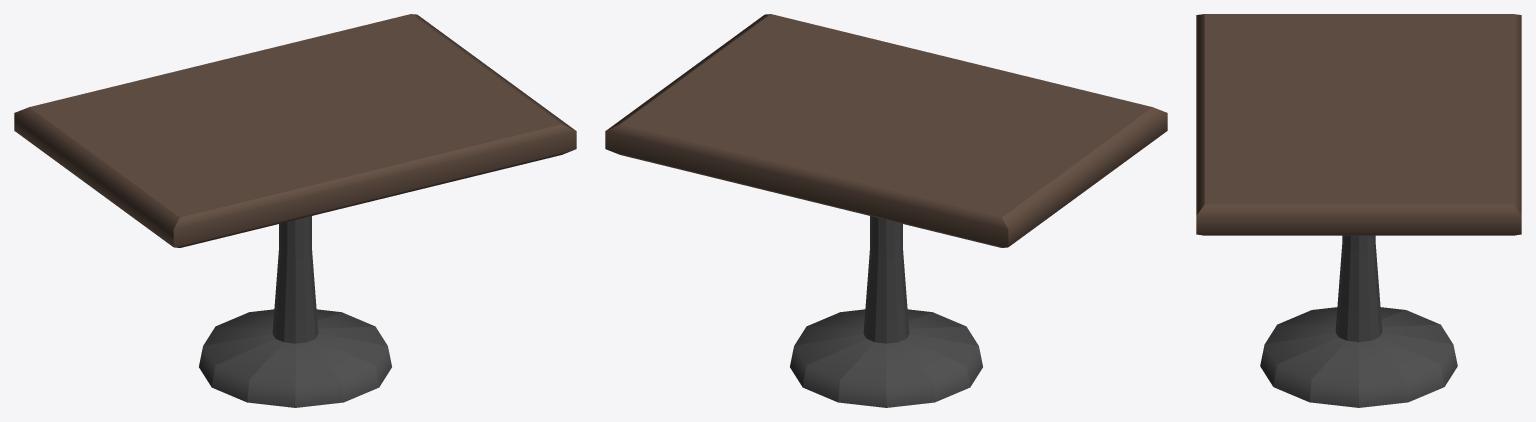
File: Dining_table.fbx
The picture shows the model from 3 angles, left to right: view 1: azimuth 30°, elevation 25°; view 2: azimuth 150°, elevation 25°; view 3: azimuth 270°, elevation 25°; orthographic projection. The views are drawn at different scales.
Visible parts, largest first — view 1: pCube2; view 2: pCube2; view 3: pCube2.
Part boxes in pixels (<box>): pCube2: <box>14,14,576,407</box>; pCube2: <box>605,14,1167,407</box>; pCube2: <box>1196,14,1521,407</box>.
Bounding box in the file's own units: 68.18 × 40.63 × 46.66.
